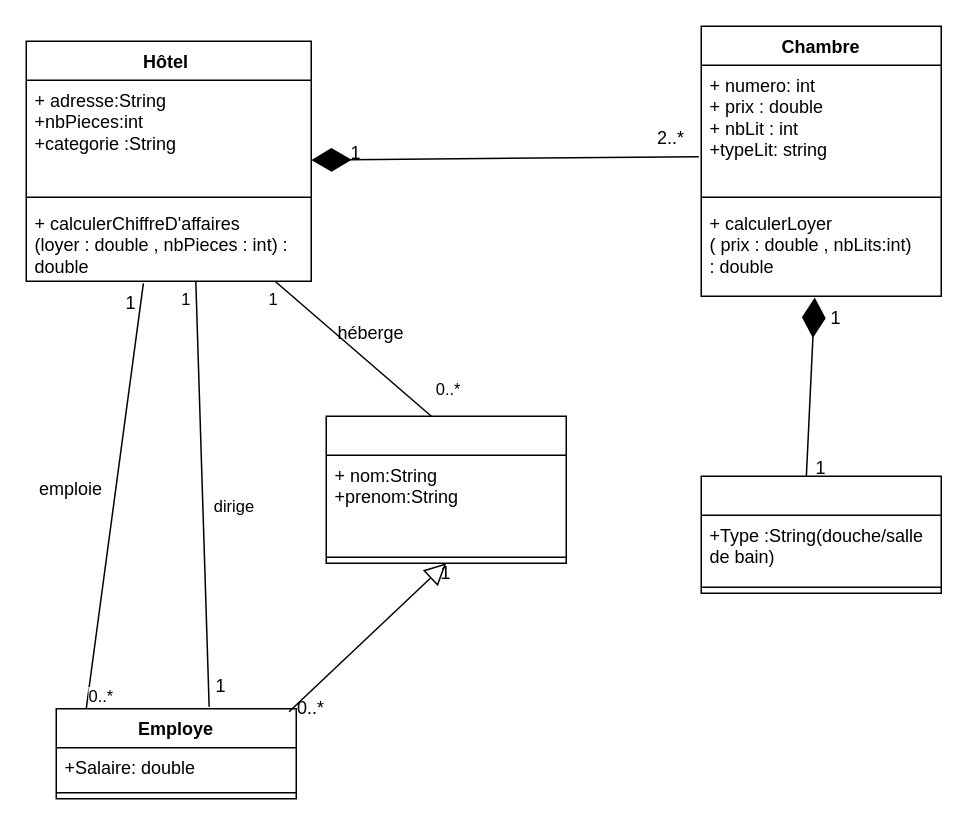
The diagram is 968 pixels wide and 825 high, and some of its shapes have lost their labels. The shapes that lost their labels are listed below. From the top down, each one's box as (x1, y1, x2, y2) in pixels, then its label:
(325, 415, 566, 563): personne
(700, 475, 941, 593): SalleDEau
